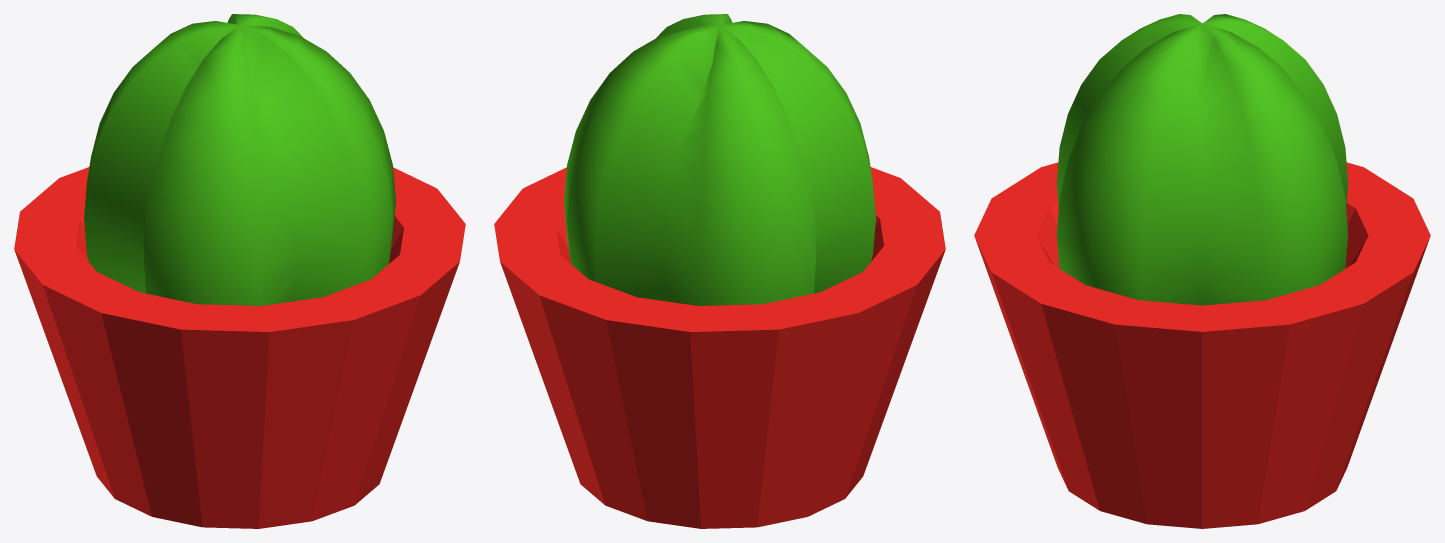
File: cactus1.obj
The picture shows the model from 3 angles, left to right: view 1: azimuth 30°, elevation 25°; view 2: azimuth 150°, elevation 25°; view 3: azimuth 270°, elevation 25°; orthographic projection.
Parts seen in each view (by area): view 1: Succulent.002_Cylinder.016; view 2: Succulent.002_Cylinder.016; view 3: Succulent.002_Cylinder.016.
Boxes of the visible parts, x1=… form: Succulent.002_Cylinder.016: x1=14, y1=14, x2=465, y2=528; Succulent.002_Cylinder.016: x1=494, y1=14, x2=945, y2=528; Succulent.002_Cylinder.016: x1=974, y1=14, x2=1430, y2=528.
Bounding box in the file's own units: 0.5938 × 0.6375 × 0.5938.
